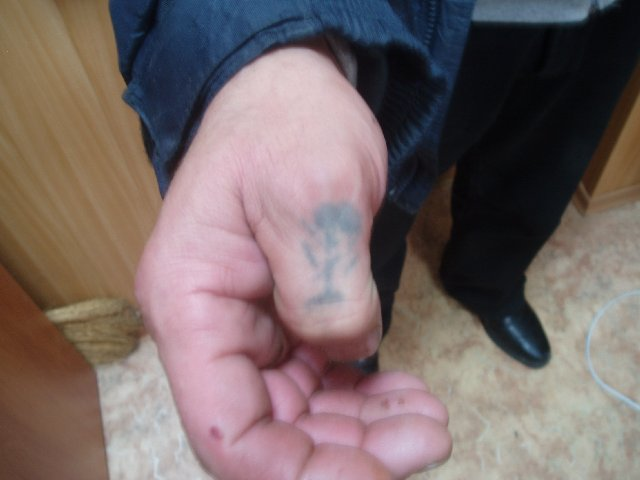tatu9_krest: (295, 203, 368, 310)
